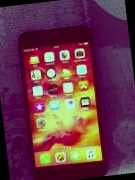iphone: (24, 27, 98, 180)
